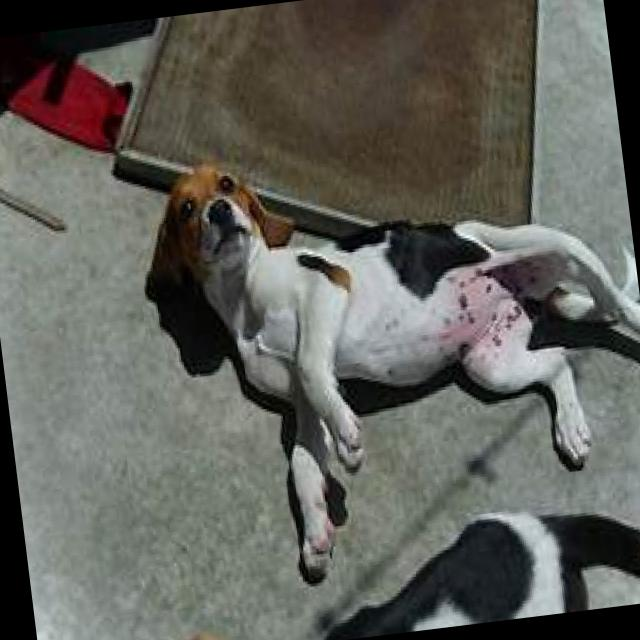animal: (131, 107, 640, 598)
